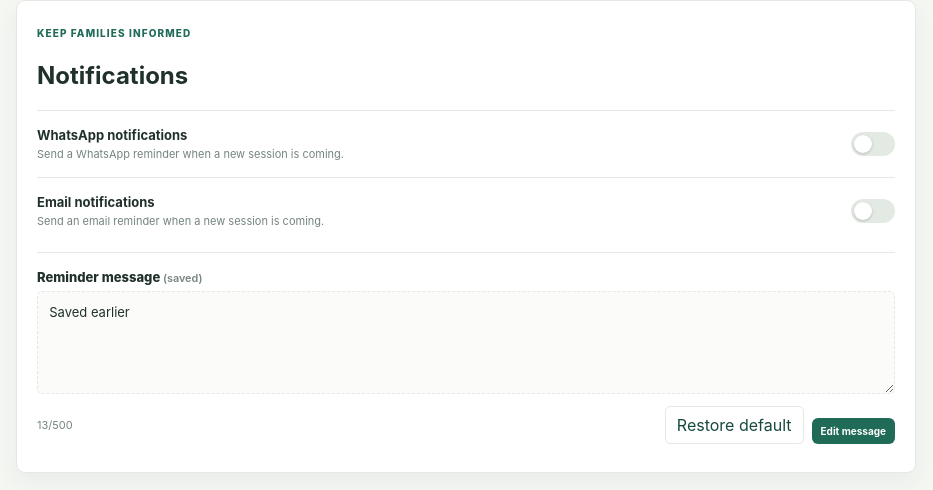
Test: opens a saved message in view mode and edits it without losing the text
Step 1. Click the button "Edit message" → [853, 431], box x1=812 y1=418 x2=895 y2=444
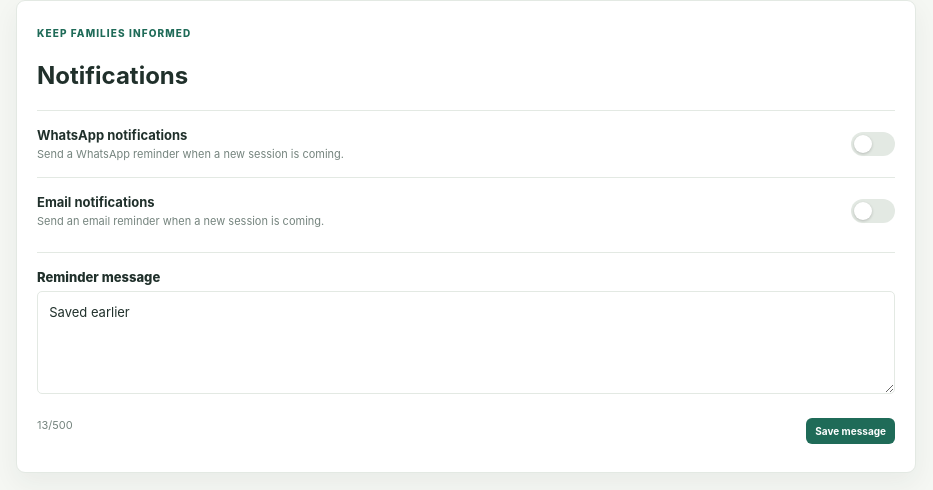
Expected: the text box showing "Saved earlier" holds "Saved earlier", x1=37 y1=291 x2=895 y2=394
Expected: the button "Save message" is shown, x1=806 y1=418 x2=895 y2=444
Expected: the button "Edit message" is gone
